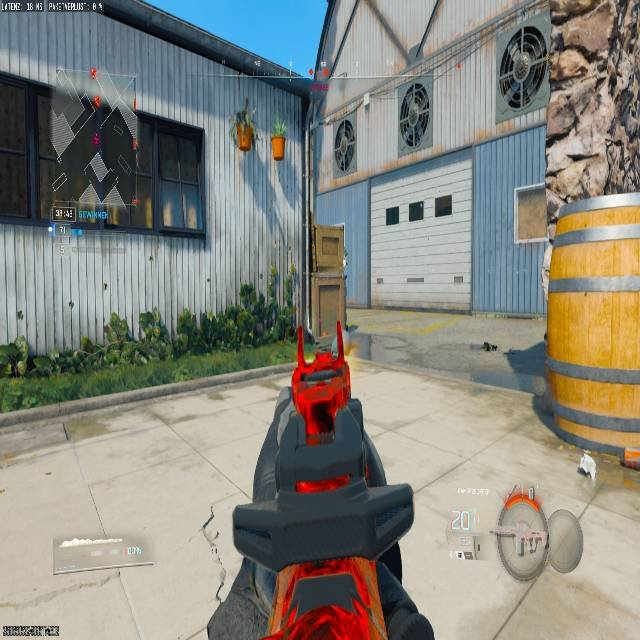player: (400, 82, 431, 150)
